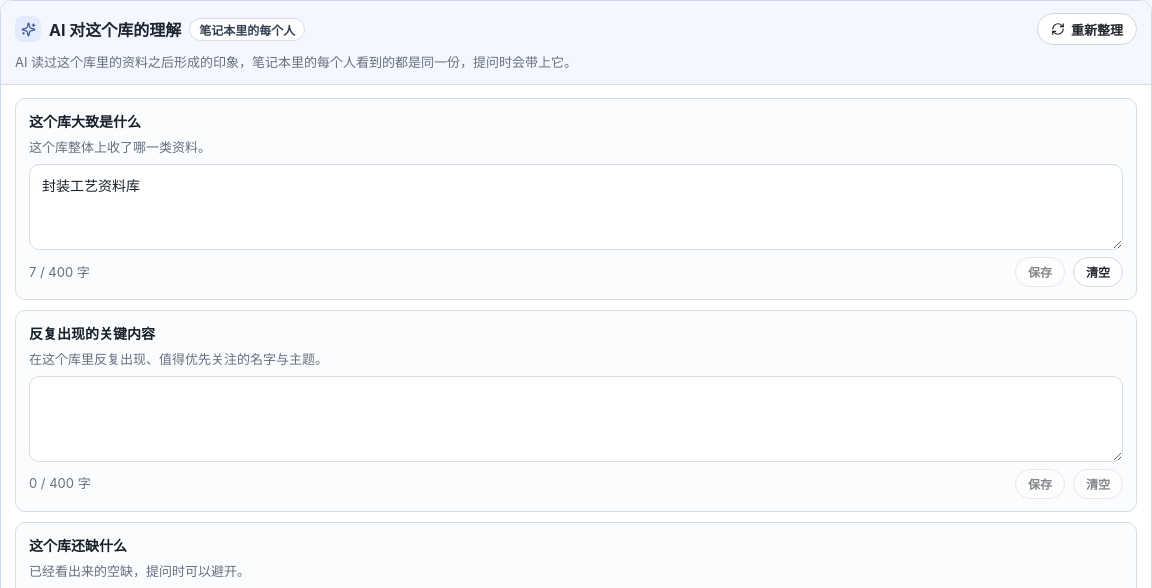
Scenario: 重新整理失败：忙碌位当场解除，按钮回到可点并给出人话
The image size is (1152, 588).
Check: the heading "AI 对这个库的理解" is shown, box [49, 17, 181, 41]
Click the button "重新整理" at (1087, 29), box [1037, 13, 1137, 45]
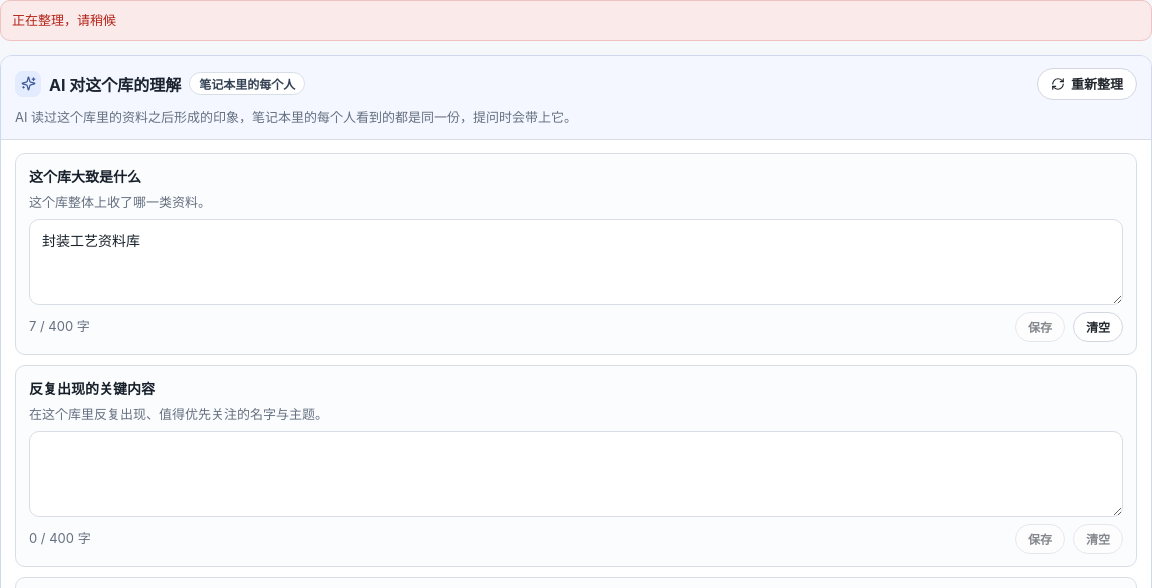
Check: the text "正在整理，请稍候" is shown, box [0, 0, 1151, 41]
